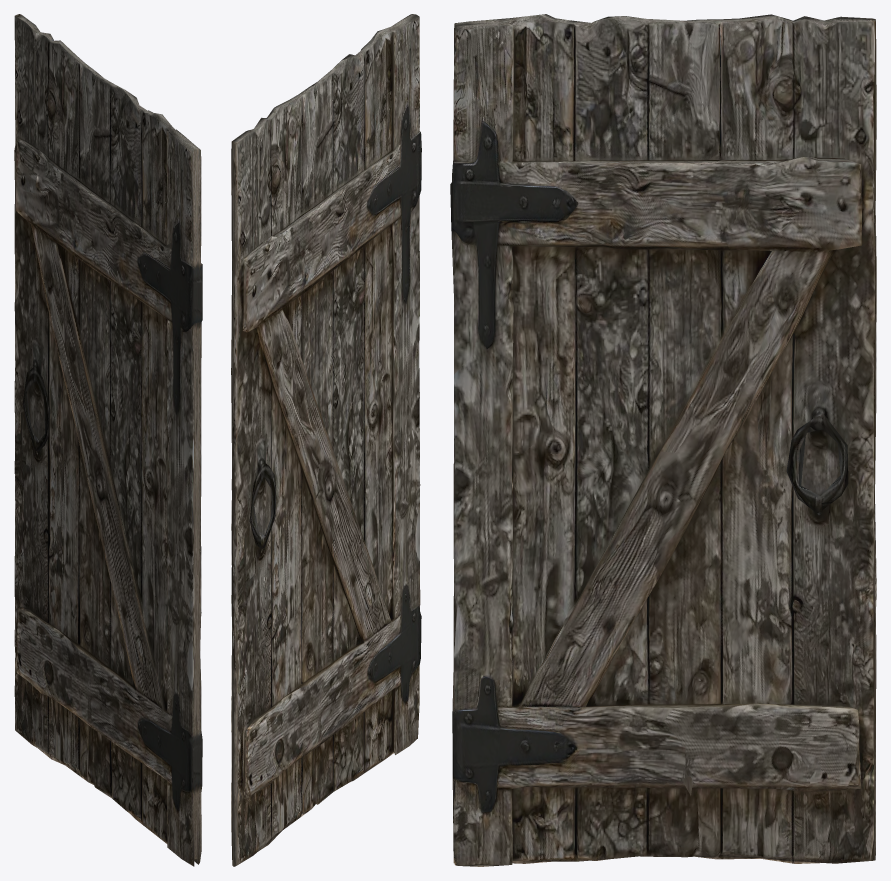
Rendered from bb_door_wood.glb.
3 renders of one model, left to right at view 1: azimuth 30°, elevation 25°; view 2: azimuth 150°, elevation 25°; view 3: azimuth 270°, elevation 25°, orthographic. The views are drawn at different scales.
Parts seen in each view (by area): view 1: bb_door_wood; view 2: bb_door_wood; view 3: bb_door_wood.
Part boxes in pixels (x1,y1,x2,y2): bb_door_wood: (14,14,202,866); bb_door_wood: (231,14,421,866); bb_door_wood: (450,14,876,866).
Size of the model in its own units: 0.05 by 2.2 by 0.9999.
Materials: 1 (1 with a texture image).
